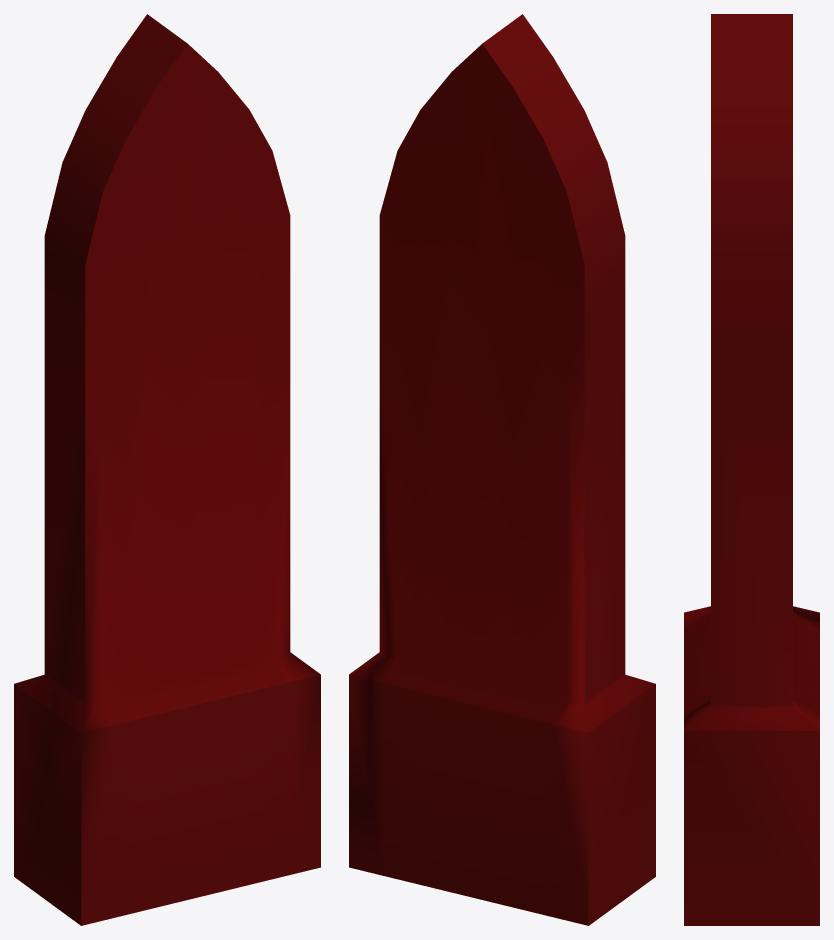
Rendered from geology-carvedstone-gravestone_v8.fbx.
3 views of the same model, side by side, from view 1: azimuth 30°, elevation 25°; view 2: azimuth 150°, elevation 25°; view 3: azimuth 270°, elevation 25° (orthographic).
Visible parts, largest first — view 1: Gravestone_v8; view 2: Gravestone_v8; view 3: Gravestone_v8.
Part boxes in pixels (<box>): Gravestone_v8: <box>14,14,320,925</box>; Gravestone_v8: <box>349,14,655,925</box>; Gravestone_v8: <box>684,14,819,925</box>.
Size of the model in its own units: 1.51 by 5.08 by 0.7343.
